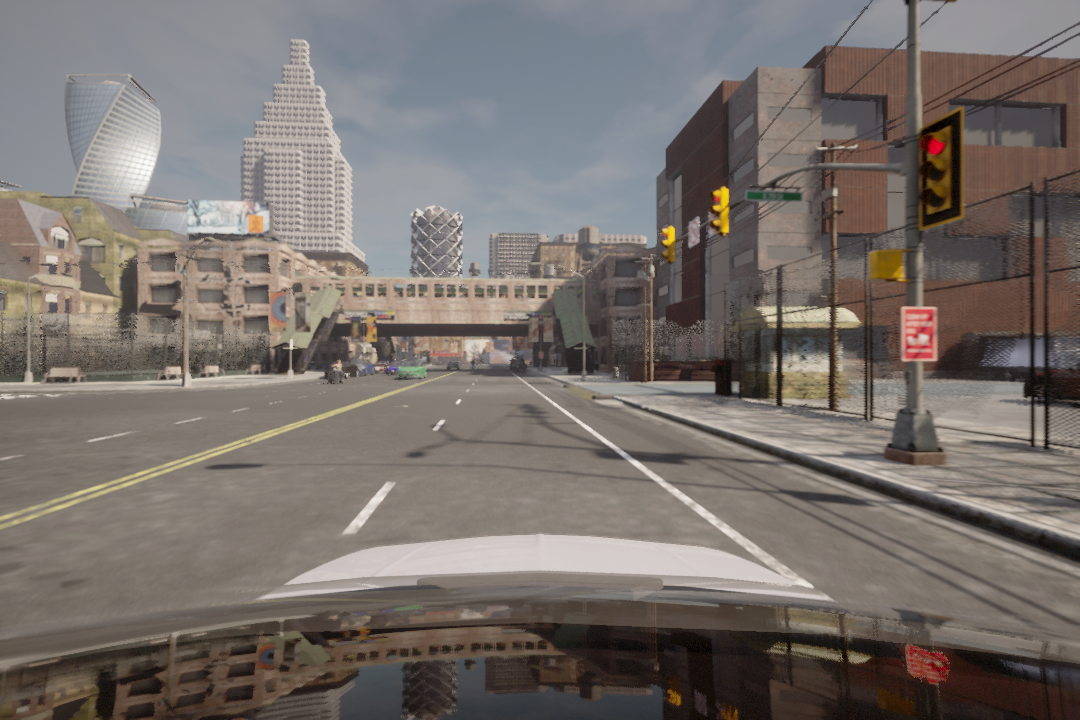TrafficLight: (921, 120, 969, 224), (712, 187, 734, 237), (658, 222, 677, 263)
TrafficSign: (683, 220, 704, 247)
